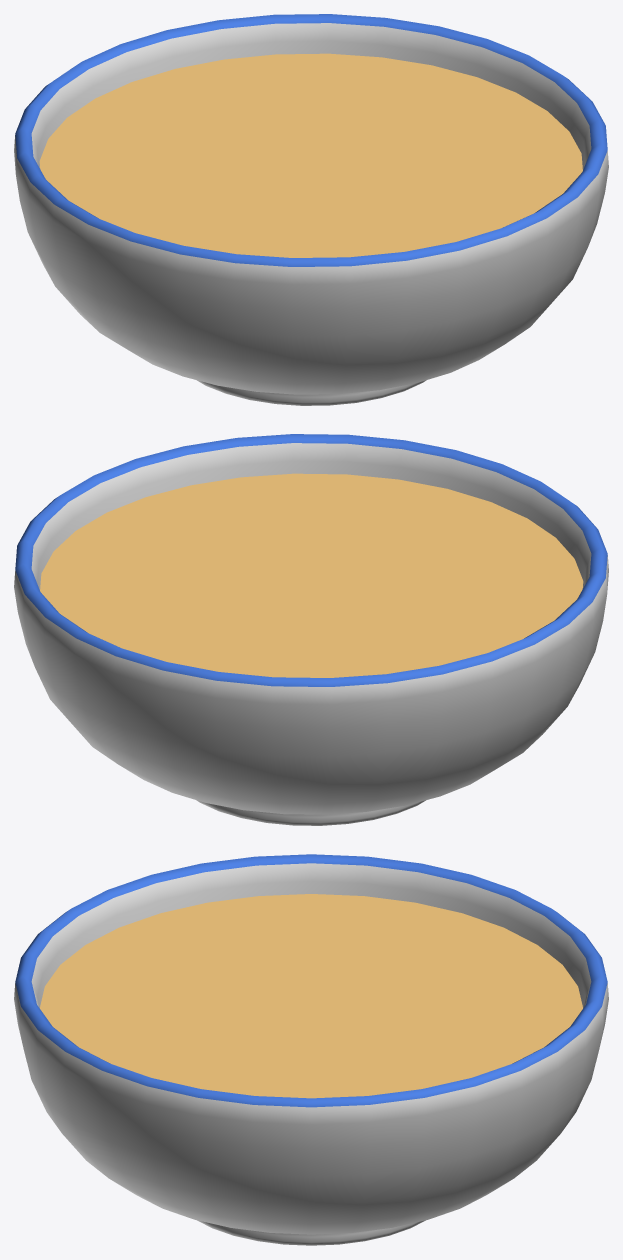
File: OnionSoup.glb
3 views of the same model, one above another, from view 1: azimuth 30°, elevation 25°; view 2: azimuth 150°, elevation 25°; view 3: azimuth 270°, elevation 25° (orthographic).
Visible parts, largest first — view 1: Bowl.001; view 2: Bowl.001; view 3: Bowl.001.
Boxes of the visible parts, left/top/right/bottom form: Bowl.001: left=14, top=14, right=608, bottom=405; Bowl.001: left=14, top=434, right=608, bottom=825; Bowl.001: left=14, top=854, right=608, bottom=1245.
Size of the model in its own units: 0.2184 by 0.0868 by 0.2184.
